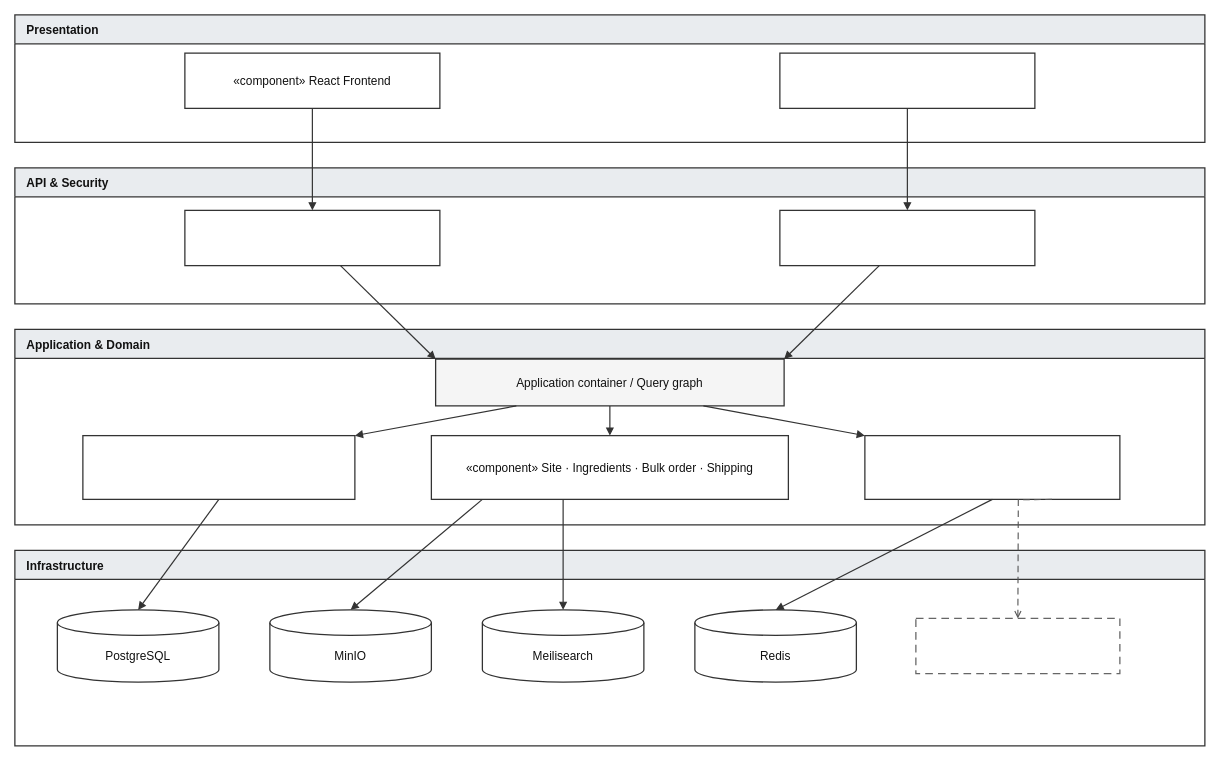
Some shapes in this 1221 by 762 pixel diagram are drawn without their labels. Each missing label, with the centre of its shape:
Groq AI / Nominatim: (x=1017, y=645)
«component» Admin Dashboard: (x=907, y=80)
«component» Medusa Commerce Core: (x=218, y=467)
«component» Workflow / Subscriber: (x=992, y=467)
«interface» Admin API + JWT/RBAC: (x=907, y=237)
«interface» Store API: (x=312, y=237)
